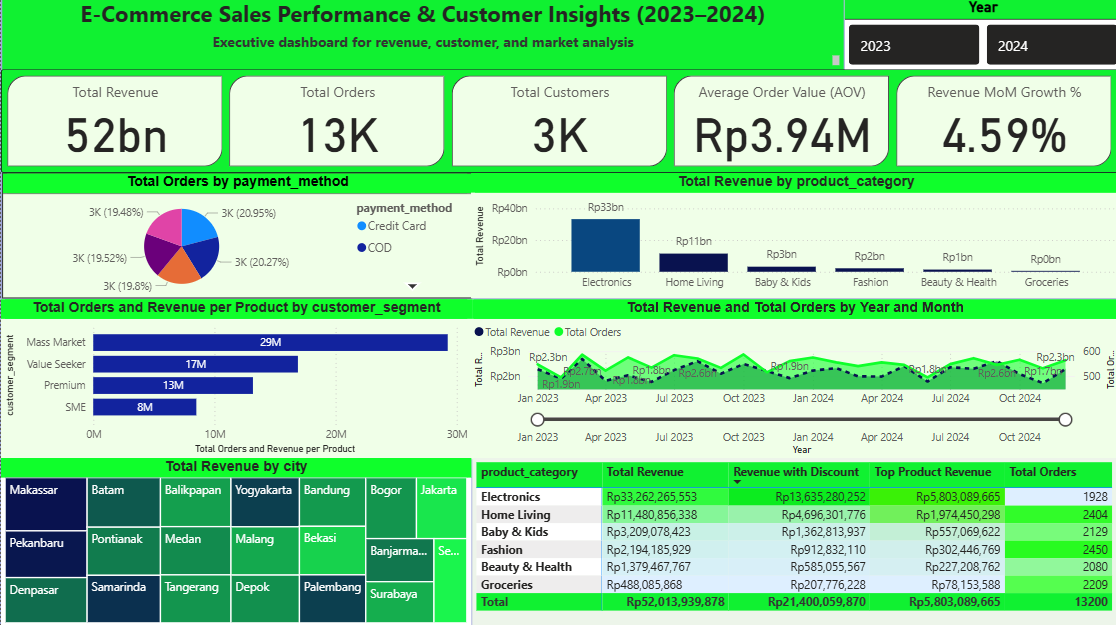

This screenshot's page, from the dashboard's own definition file:
{"tool":"powerbi","page":{"name":"Page 1","canvas":[1280,720],"ordinal":0},"visuals":[{"type":"areaChart","fields":{"Category":["transactions.order_date.Variation.Date Hierarchy.Year","transactions.order_date.Variation.Date Hierarchy.Month"],"Y2":["customers.Total Orders"],"Y":["customers.Total Revenue"]},"box":[536.3,344,744,182.2],"z":0},{"type":"cardVisual","fields":{"Data":["customers.Total Revenue","customers.Total Orders","customers.Total Customers","customers.Average Order Value (AOV)","customers.Revenue MoM Growth %"]},"box":[0,82,1280.2,118.7],"z":1000},{"type":"barChart","fields":{"Category":["customers.customer_segment"],"Y":["customers.Total Orders","customers.Revenue per Product"]},"box":[0,343.6,538,182.2],"z":2000},{"type":"treemap","fields":{"Group":["customers.city"],"Values":["customers.Total Revenue"]},"box":[0,526.1,537.6,193.6],"z":3000},{"type":"pivotTable","fields":{"Rows":["products.product_category"],"Values":["customers.Total Revenue","customers.Revenue with Discount","customers.Top Product Revenue","customers.Total Orders"]},"box":[538.2,526.4,740.9,193.6],"z":4000},{"type":"pieChart","fields":{"Category":["transactions.payment_method"],"Y":["customers.Total Orders"]},"box":[1.2,200.5,536.8,143.1],"z":5000},{"type":"columnChart","fields":{"Y":["customers.Total Revenue"],"Category":["products.product_category"]},"box":[536.8,200.5,743.5,143.1],"z":6000},{"type":"advancedSlicerVisual","fields":{"Values":["transactions.order_date.Variation.Date Hierarchy.Year"]},"box":[963.6,0,316.7,81.9],"z":7000},{"type":"textbox","title":"E-Commerce Sales Performance & Customer Insights (2023–2024)","box":[1.3,0,961.8,81.5],"z":8000}]}

Visuals, with their boxes in screenshot pixels (x1, y1, x2, y2), scaled from the page's 1280x720 canvas onto the 1116x625 screenshot:
areaChart - transactions.order_date.Variation.Date Hierarchy.Year x transactions.order_date.Variation.Date Hierarchy.Month: bbox=[468, 299, 1115, 457]
cardVisual - customers.Total Revenue x customers.Total Orders: bbox=[0, 71, 1115, 174]
barChart - customers.customer_segment x customers.Total Orders: bbox=[0, 298, 469, 456]
treemap - customers.city x customers.Total Revenue: bbox=[0, 457, 469, 624]
pivotTable - products.product_category x customers.Total Revenue: bbox=[469, 457, 1115, 624]
pieChart - transactions.payment_method x customers.Total Orders: bbox=[1, 174, 469, 298]
columnChart - customers.Total Revenue x products.product_category: bbox=[468, 174, 1115, 298]
advancedSlicerVisual - transactions.order_date.Variation.Date Hierarchy.Year: bbox=[840, 0, 1115, 71]
"E-Commerce Sales Performance & Customer Insights (2023–2024)" textbox: bbox=[1, 0, 840, 71]
